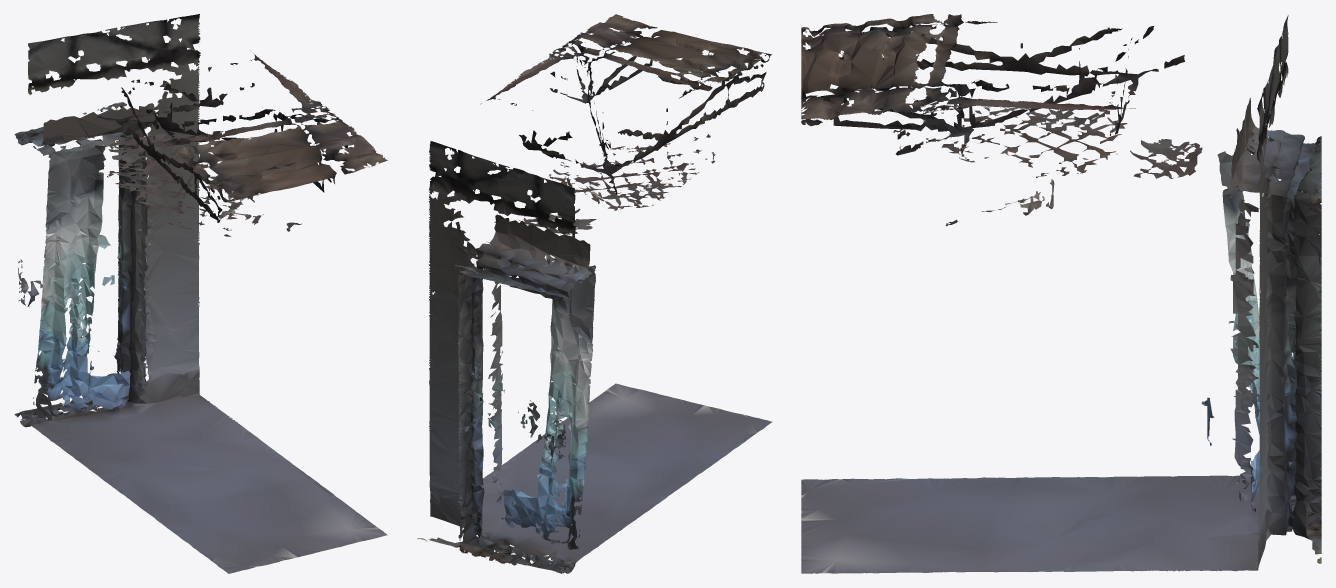
Rendered from coarse.glb.
3 renders of one model, left to right at view 1: azimuth 30°, elevation 25°; view 2: azimuth 150°, elevation 25°; view 3: azimuth 270°, elevation 25°, orthographic. The views are drawn at different scales.
Size of the model in its own units: 1.55 by 3.58 by 3.6.
